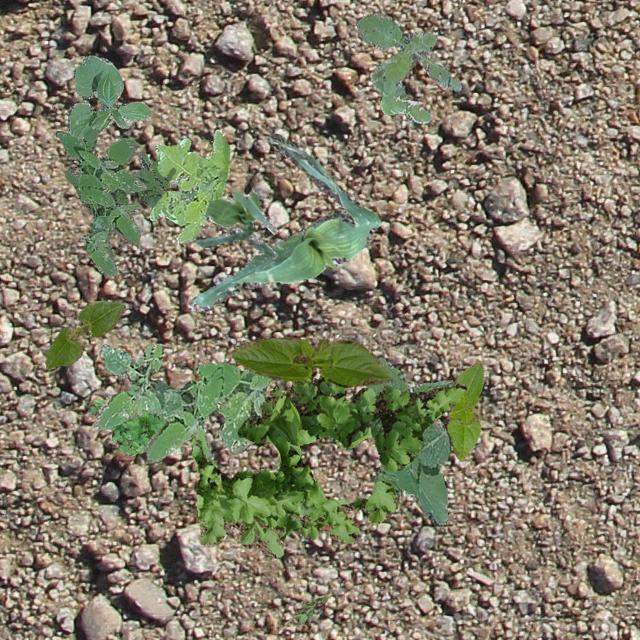crop: (188, 134, 380, 310), (230, 334, 392, 386), (168, 188, 276, 258), (66, 54, 150, 138), (44, 300, 124, 368), (447, 358, 482, 459)
weed: (192, 374, 466, 556), (92, 342, 268, 462), (366, 356, 454, 524), (54, 126, 146, 276), (356, 12, 460, 122), (148, 128, 228, 242), (64, 150, 174, 212), (88, 398, 166, 454), (292, 596, 326, 622)
